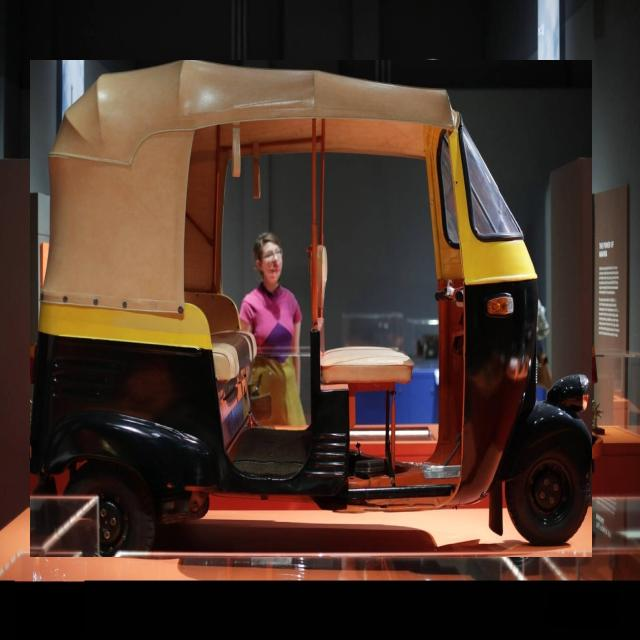autorickshaw: (30, 61, 592, 557)
